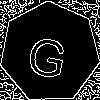G: (24, 27, 70, 80)
